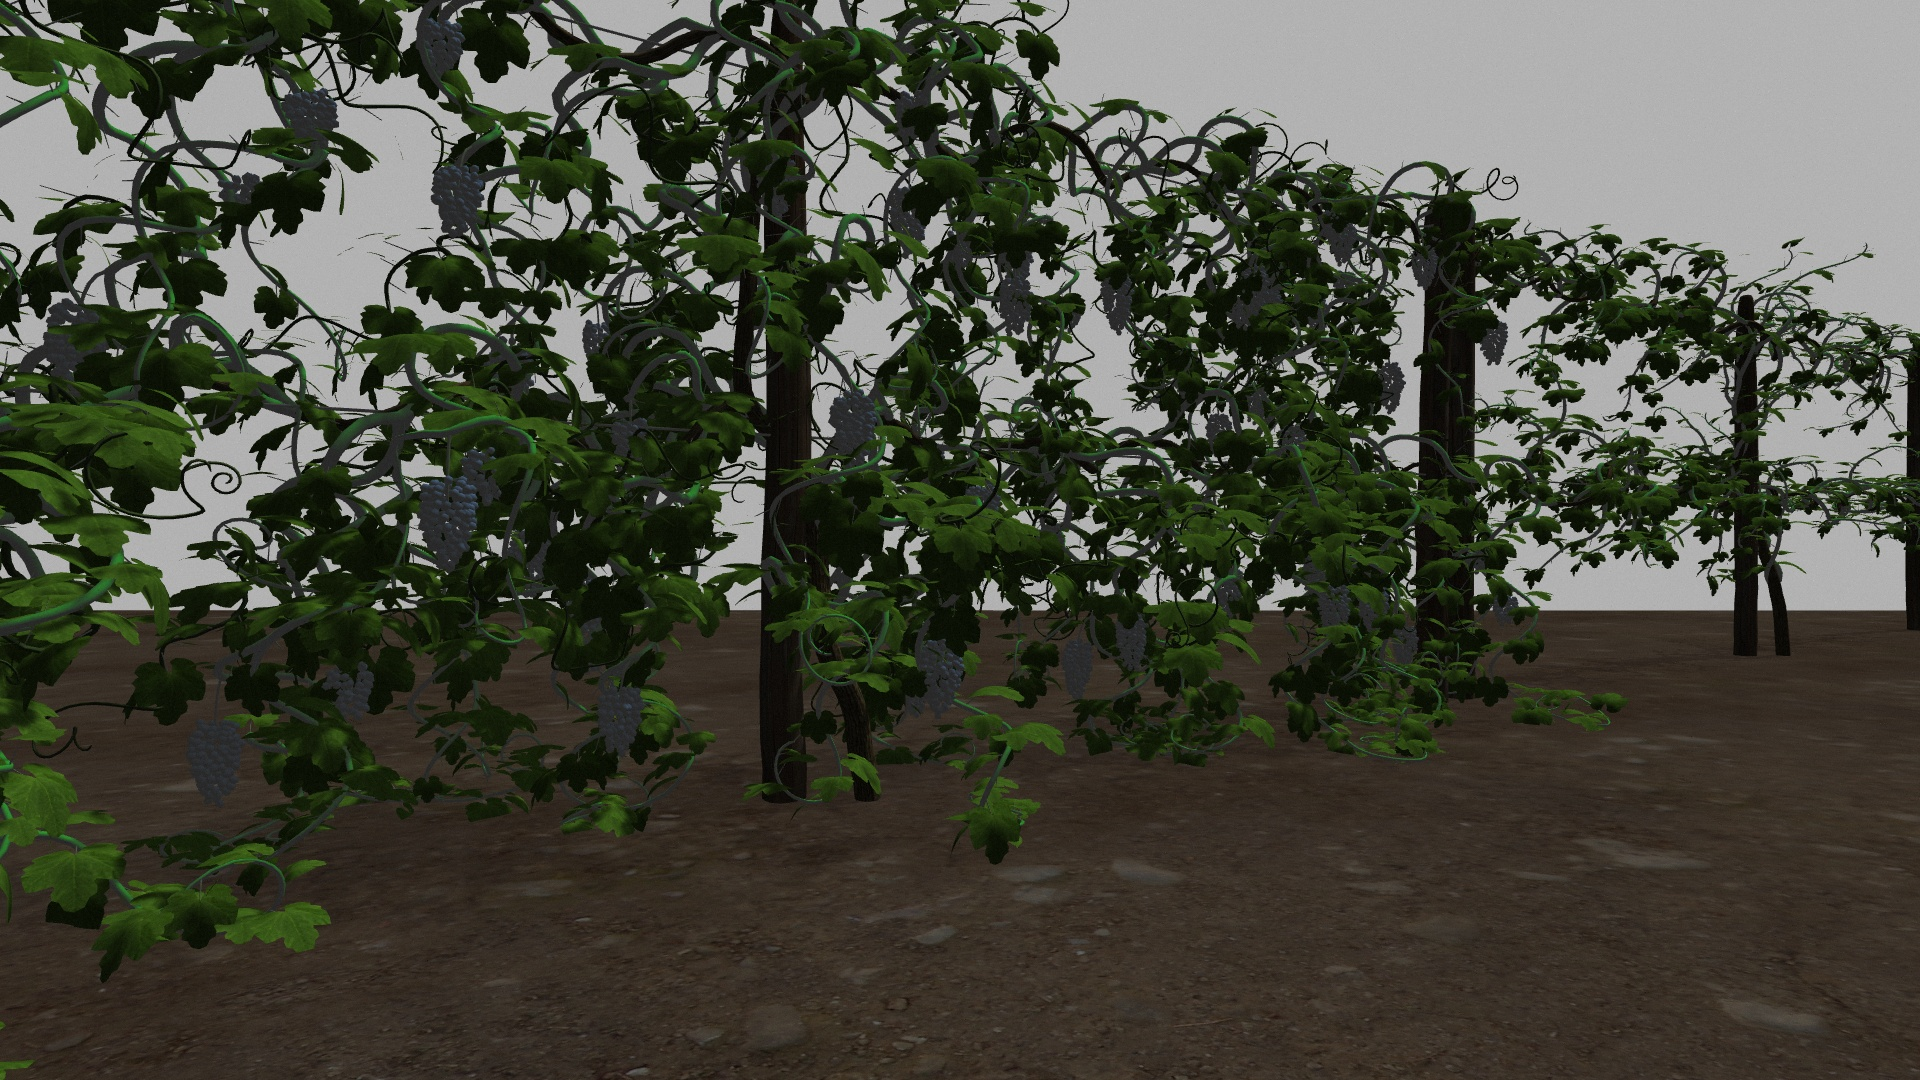grape: (179, 717, 251, 808), (413, 476, 483, 568), (429, 156, 491, 240), (591, 680, 649, 756), (916, 640, 967, 723), (320, 659, 378, 729), (284, 84, 342, 153), (829, 385, 877, 465), (414, 18, 467, 84), (885, 187, 934, 255), (1059, 637, 1098, 702), (1098, 272, 1134, 338), (997, 276, 1033, 339), (1117, 615, 1149, 673), (1316, 584, 1352, 630), (1323, 220, 1358, 266), (1375, 363, 1406, 415), (1480, 316, 1509, 367), (1410, 245, 1440, 289), (1390, 626, 1419, 669), (1491, 593, 1520, 629), (1204, 415, 1233, 448)
